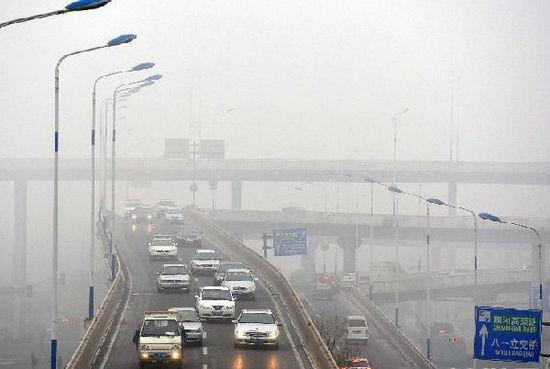bus: (438, 332, 468, 366), (425, 321, 455, 354), (367, 259, 404, 283)
car: (132, 313, 186, 364), (230, 307, 284, 348), (164, 306, 205, 343), (193, 284, 236, 319), (218, 267, 259, 300), (154, 264, 190, 292), (340, 314, 370, 346), (146, 234, 180, 262), (188, 249, 221, 276), (214, 262, 252, 285), (311, 275, 337, 300), (340, 272, 370, 293), (174, 229, 202, 248), (154, 198, 177, 218), (123, 199, 146, 218), (130, 207, 153, 224), (341, 357, 373, 369), (164, 207, 185, 223)
